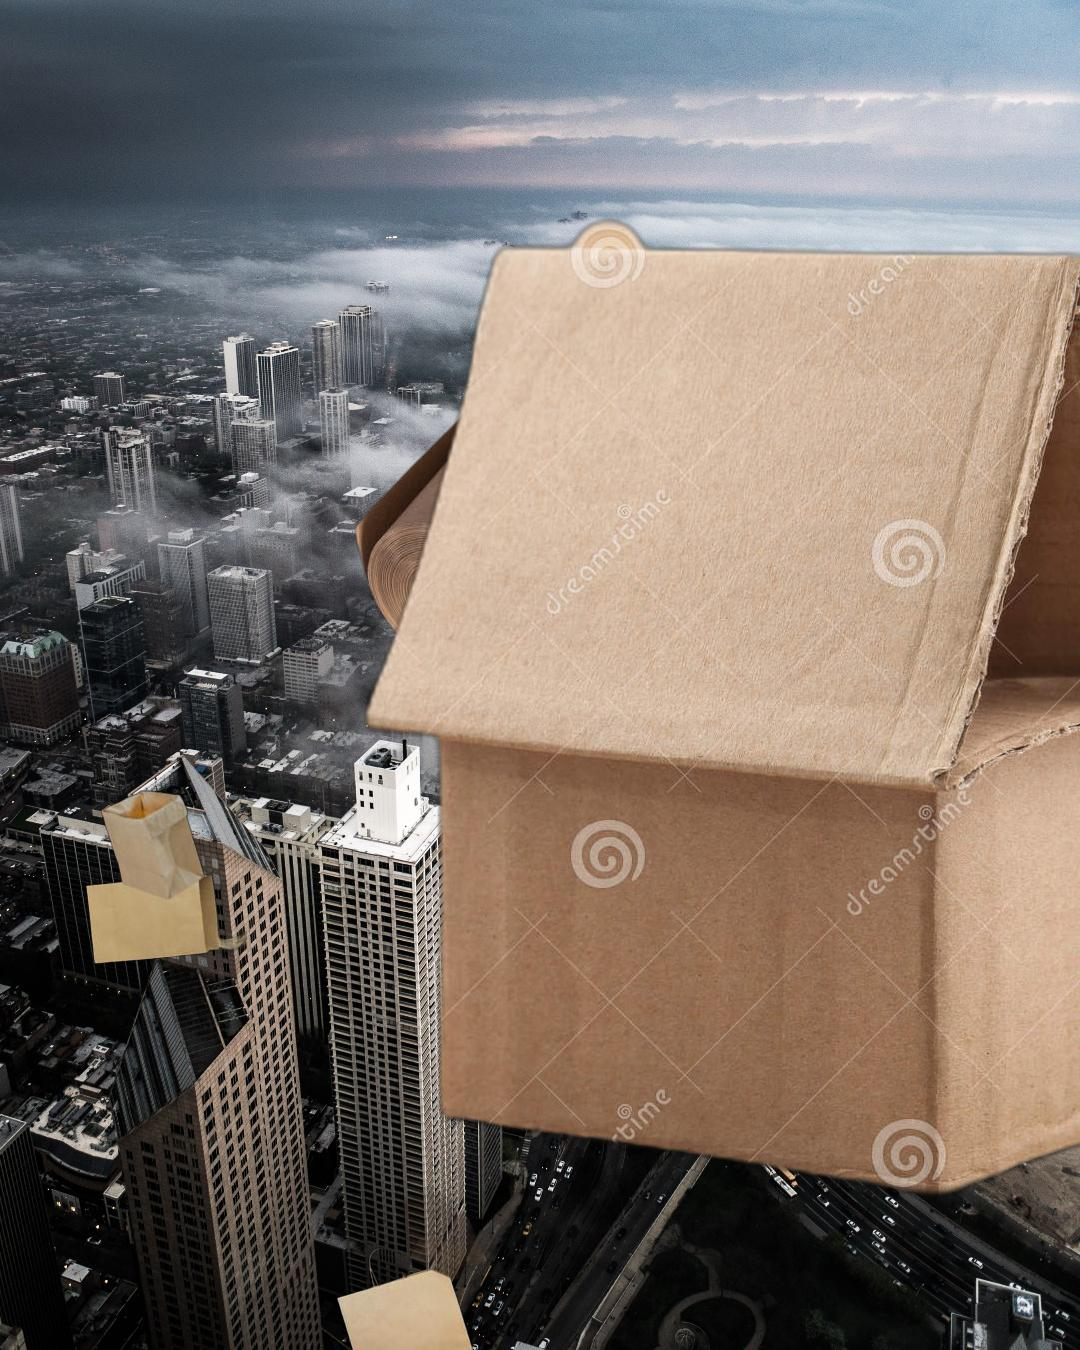battery: (858, 418, 1080, 1124)
paper-bag: (83, 788, 247, 966), (334, 1178, 489, 1350)
trashbox-cardboard: (353, 210, 1080, 1208), (350, 350, 741, 679)
